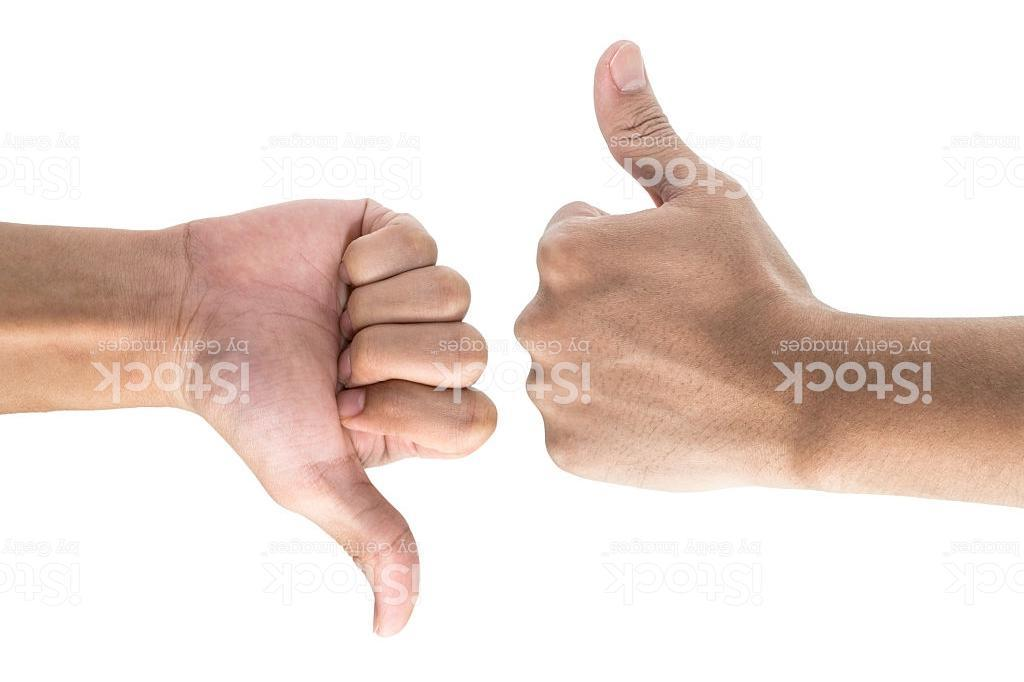thumbsdown: (215, 192, 502, 639)
